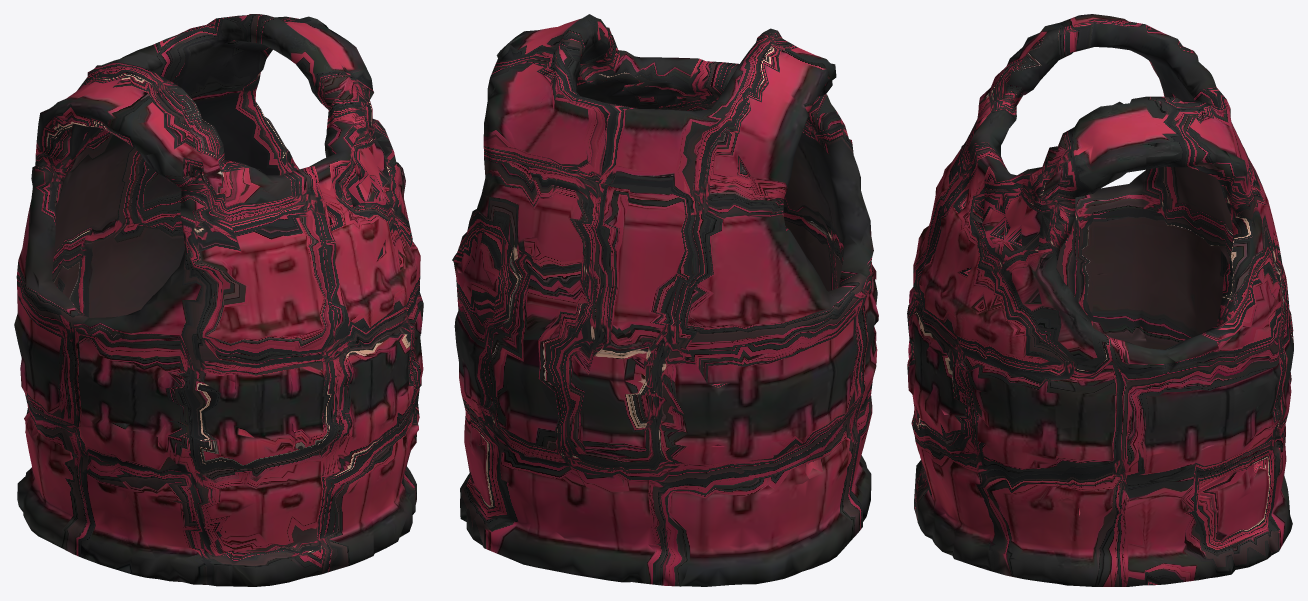
File: samurai_chest.glb
The picture shows the model from 3 angles, left to right: view 1: azimuth 30°, elevation 25°; view 2: azimuth 150°, elevation 25°; view 3: azimuth 270°, elevation 25°; orthographic projection. The views are drawn at different scales.
Size of the model in its own units: 0.3359 by 0.4271 by 0.3309.
1 material, 1 textured.
